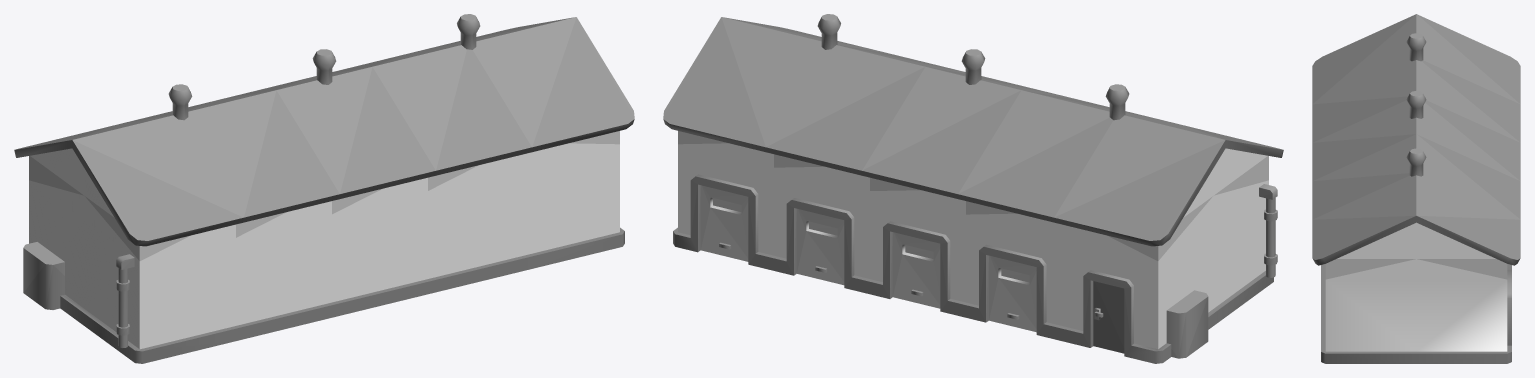
File: gtfc_war_factory.glb
3 views of the same model, side by side, from view 1: azimuth 30°, elevation 25°; view 2: azimuth 150°, elevation 25°; view 3: azimuth 270°, elevation 25° (orthographic). The views are drawn at different scales.
Parts seen in each view (by area): view 1: Body; view 2: Body; view 3: Body.
Boxes of the visible parts, x1,y1,x2,y2 form: Body: [14, 14, 634, 363]; Body: [663, 14, 1283, 363]; Body: [1312, 14, 1520, 363].
Bounding box in the file's own units: 20 × 7.89 × 8.64.
2 materials, 1 textured.
